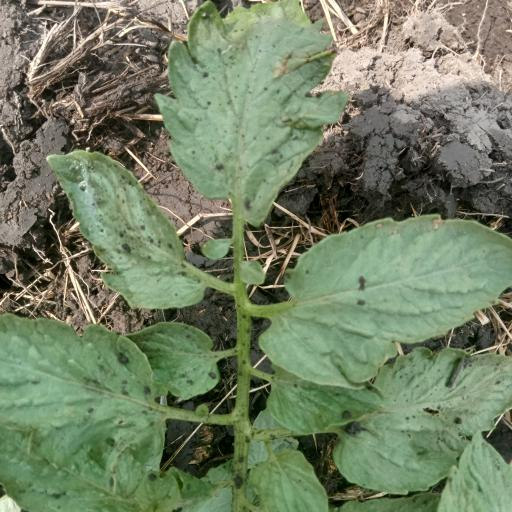Tomato_Mosaic: (153, 0, 359, 226), (281, 214, 512, 352), (43, 145, 211, 317)
